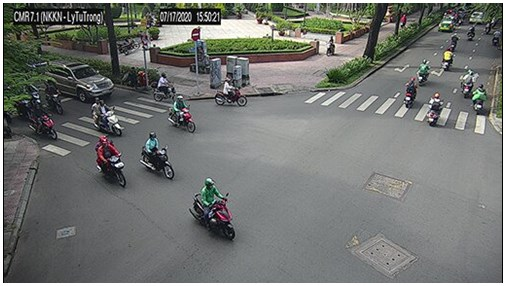xe_hoi: (47, 59, 115, 102), (24, 55, 46, 69), (443, 9, 461, 23), (468, 10, 485, 24), (439, 18, 454, 32)
xe_may: (190, 178, 236, 240), (141, 132, 175, 179), (96, 136, 126, 187), (91, 98, 123, 136), (29, 100, 58, 141), (168, 95, 196, 134), (214, 78, 248, 107), (153, 72, 177, 102), (42, 81, 63, 114), (427, 93, 443, 127), (116, 35, 141, 54), (12, 93, 30, 118), (27, 84, 44, 110), (460, 69, 474, 98), (473, 85, 486, 115), (405, 77, 417, 109), (417, 59, 430, 86), (442, 47, 454, 70), (324, 36, 337, 57), (466, 25, 477, 41), (491, 27, 499, 49), (448, 33, 458, 48), (400, 14, 407, 29), (483, 23, 492, 34)
